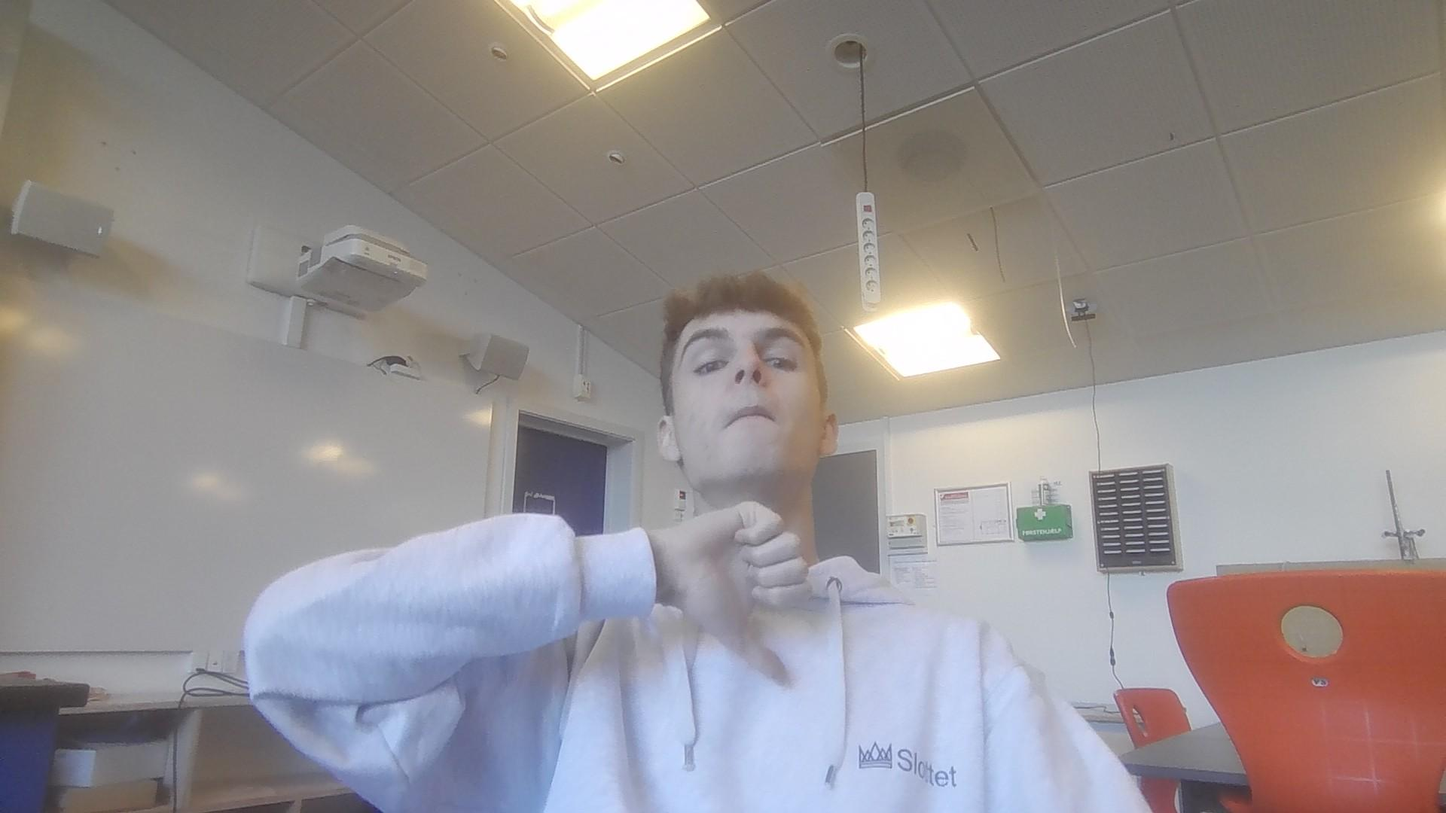thumbs down: (644, 499, 820, 701)
